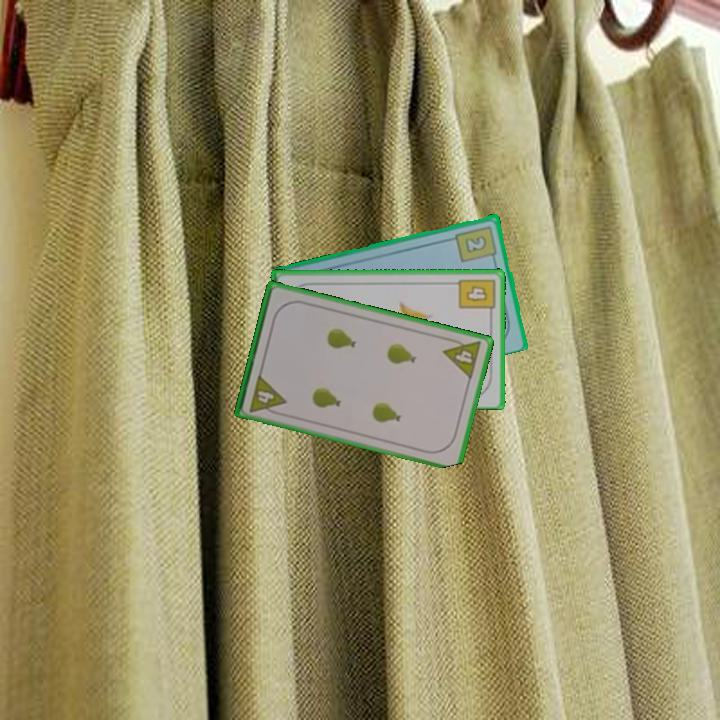2b: (452, 222, 500, 265)
4b: (455, 275, 497, 318)
4p: (440, 334, 484, 382), (246, 371, 289, 418)
